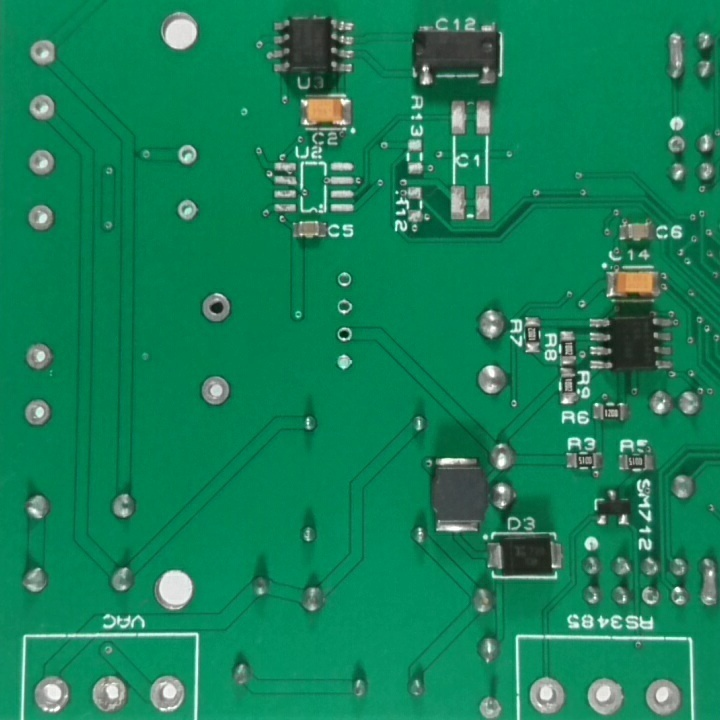F: (29, 669, 74, 718), (642, 672, 688, 718), (587, 672, 628, 718), (87, 673, 131, 715), (526, 673, 570, 715), (148, 671, 189, 714), (197, 371, 237, 409), (24, 36, 64, 72), (23, 92, 62, 127), (201, 287, 235, 327), (23, 148, 61, 180), (469, 691, 509, 720), (23, 343, 56, 378), (22, 202, 58, 234), (21, 398, 57, 429), (174, 195, 200, 226), (175, 140, 201, 169), (640, 582, 665, 609), (664, 132, 691, 155), (334, 350, 357, 375), (334, 269, 357, 291), (334, 324, 356, 346), (334, 297, 355, 320)
P: (698, 554, 720, 612), (664, 29, 687, 84)
